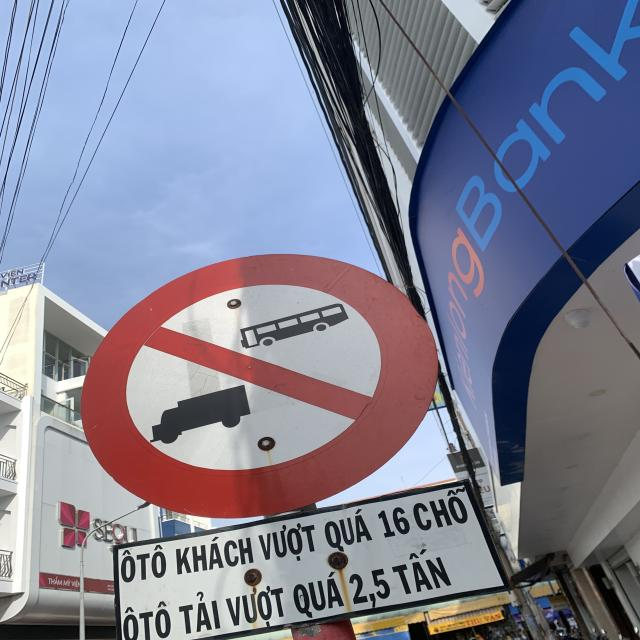Cam_XeTai_XeKhach: (81, 253, 441, 518)
